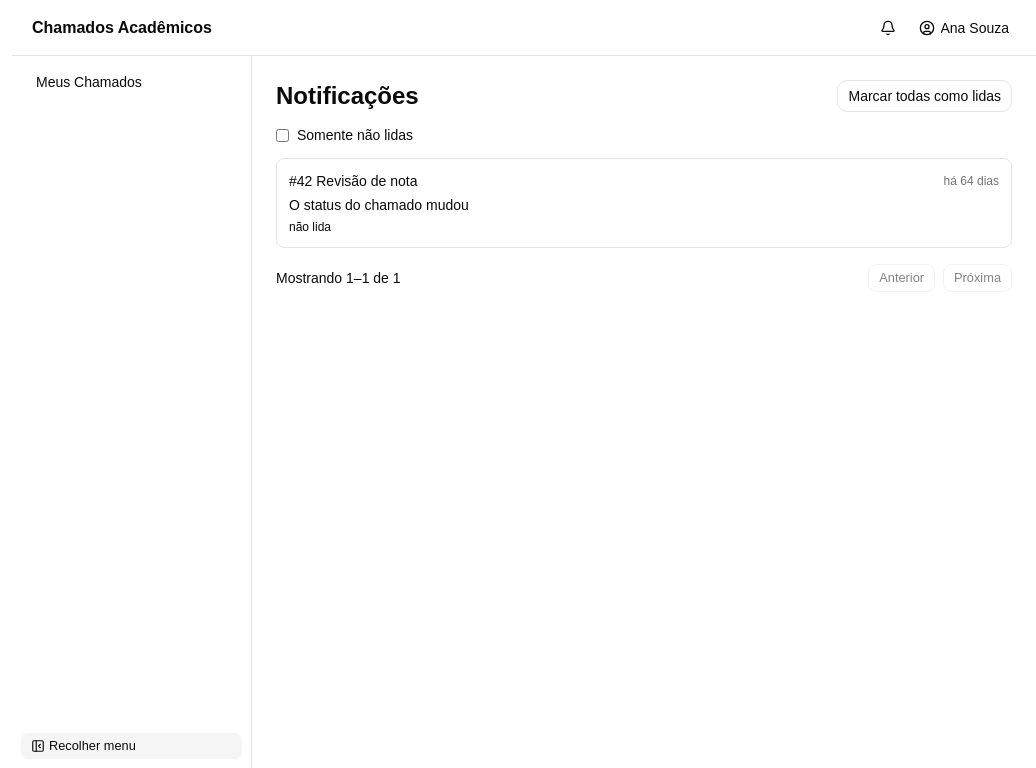
Test: NotificationsPage ("Ver todas", BR6.4) › opens the ticket of a notification, marking it as read on the way (AC1.5.3)
Expected: the text "#42 Revisão de nota" is shown, [289, 171, 417, 191]
Click the button with test id "notifications-page-item-notification-1". click: (367, 181)
box: [276, 158, 1012, 248]
(page scrolled)
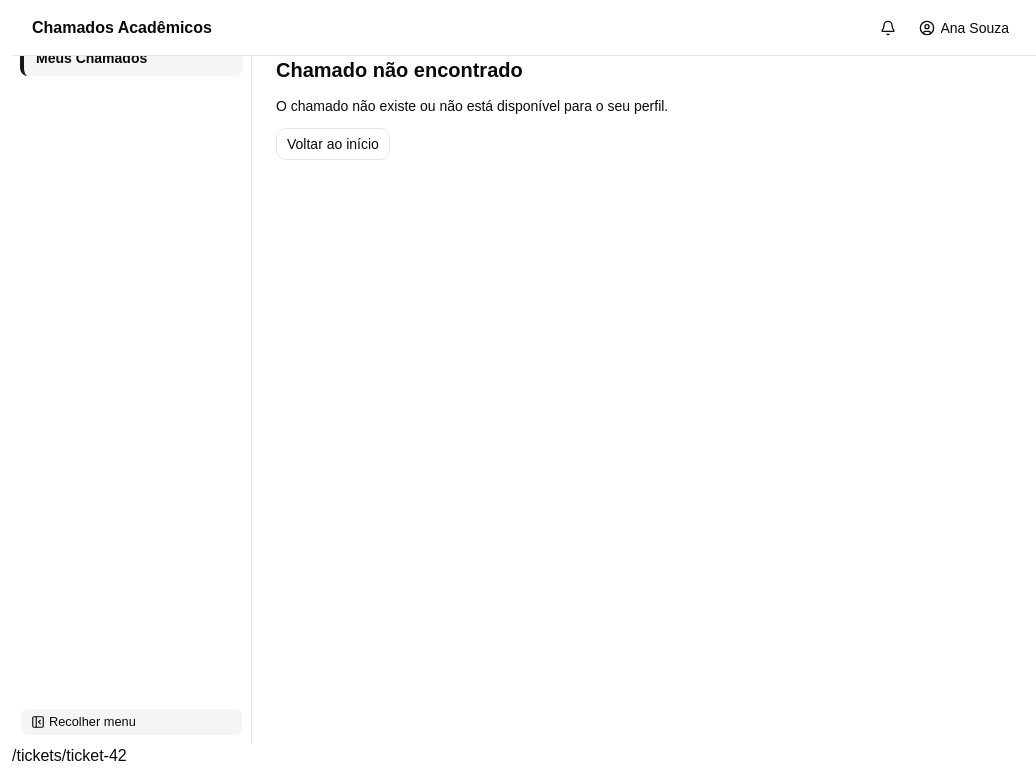
Result: the text with test id "location-probe" reads "/tickets/ticket-42" at [12, 747, 127, 764]
